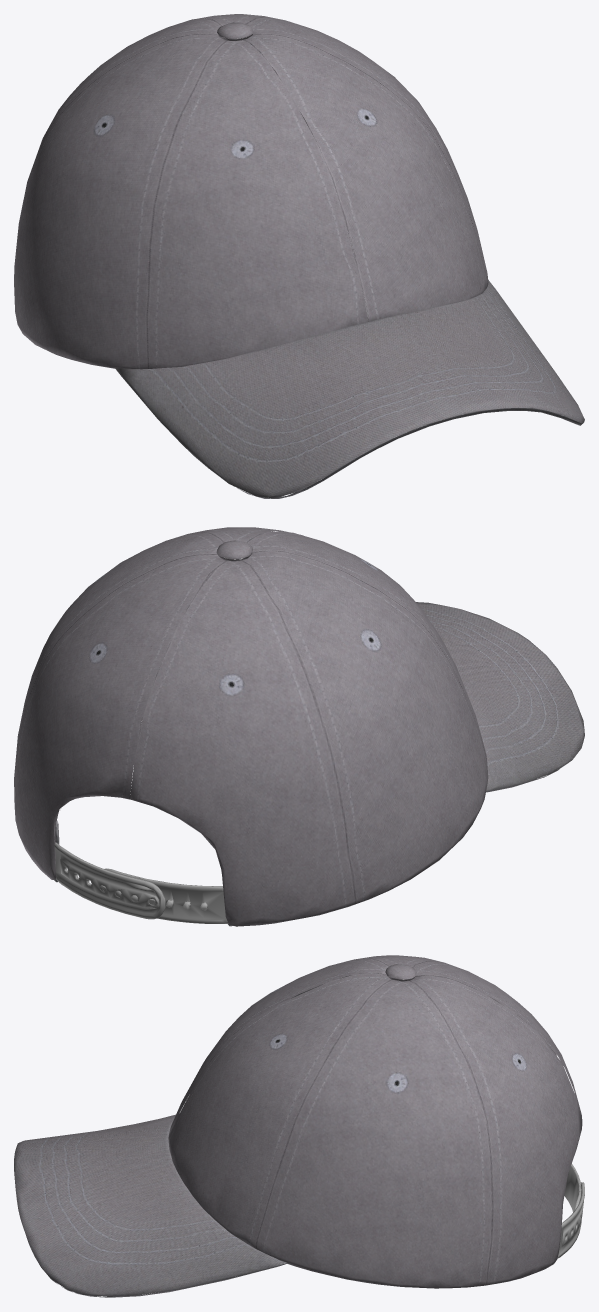
Rendered from cap.glb.
3 views of the same model, one above another, from view 1: azimuth 30°, elevation 25°; view 2: azimuth 150°, elevation 25°; view 3: azimuth 270°, elevation 25° (orthographic). The views are drawn at different scales.
Parts seen in each view (by area): view 1: cap; view 2: cap; view 3: cap.
Part boxes in pixels (x1,y1,x2,y2): cap: (14,14,584,498); cap: (14,527,584,926); cap: (14,955,584,1297).
Size of the model in its own units: 0.1972 by 0.1374 by 0.2738.
3 materials, 1 textured.
